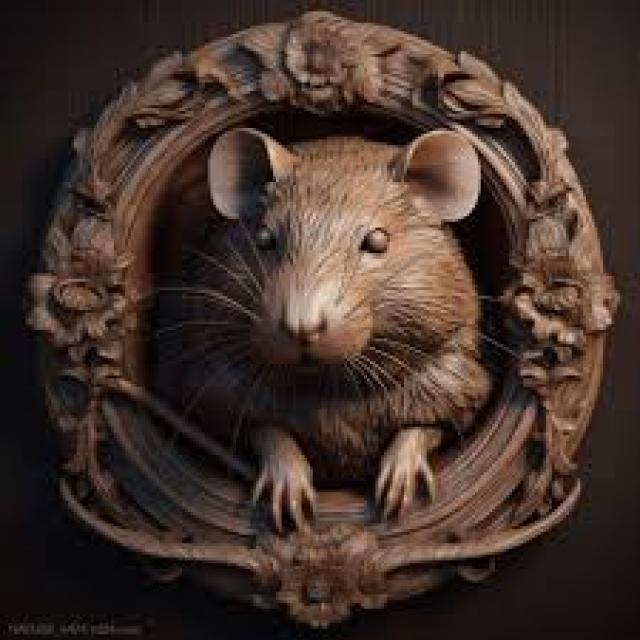rat: (154, 122, 495, 535)
